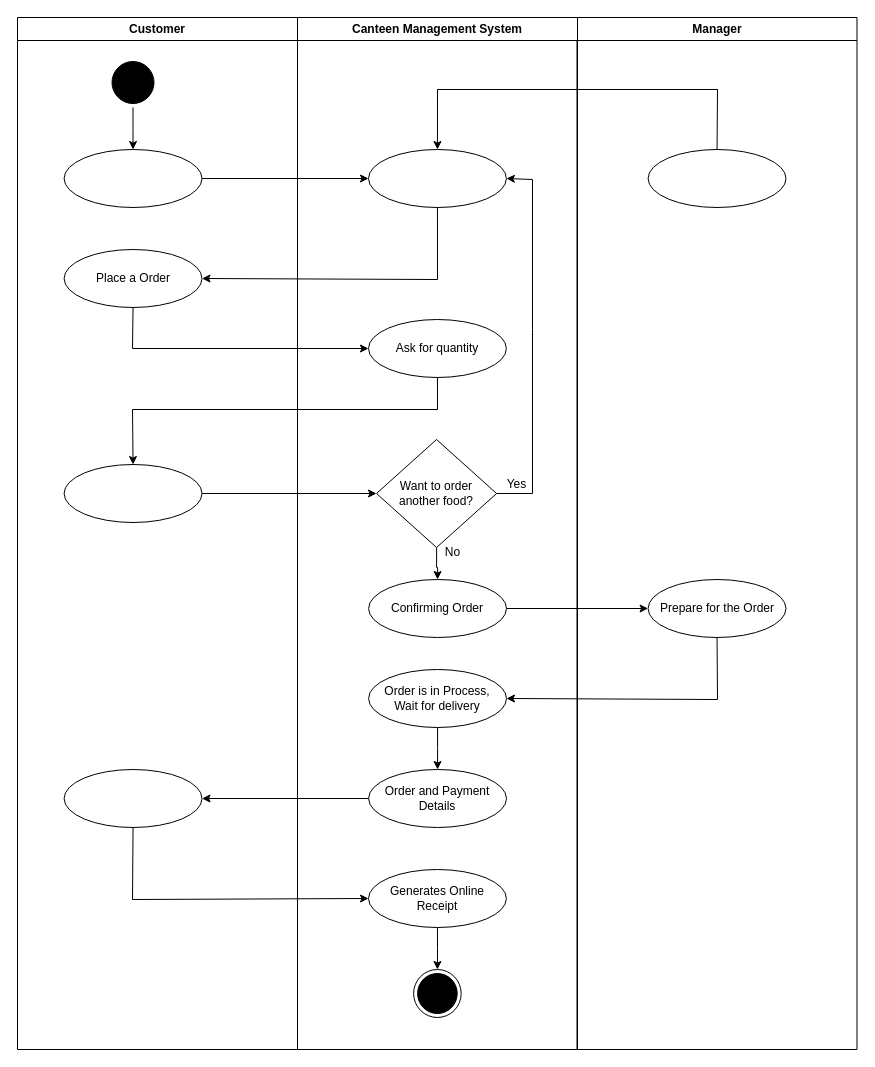
Image size: 875x1067. Some labels were removed from this diagram. The shapes that lost their labels are listed below. From the top down, each one's centre as x and y in pixels, then its label:
the point at 132,178: Login
the point at 437,178: Display Menu Items
the point at 716,178: Manage Food Menu
the point at 132,493: Enter quantity
the point at 132,798: Gives Payment
